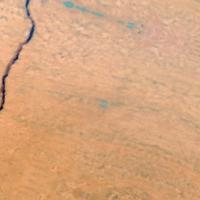crack: (0, 0, 46, 131)
